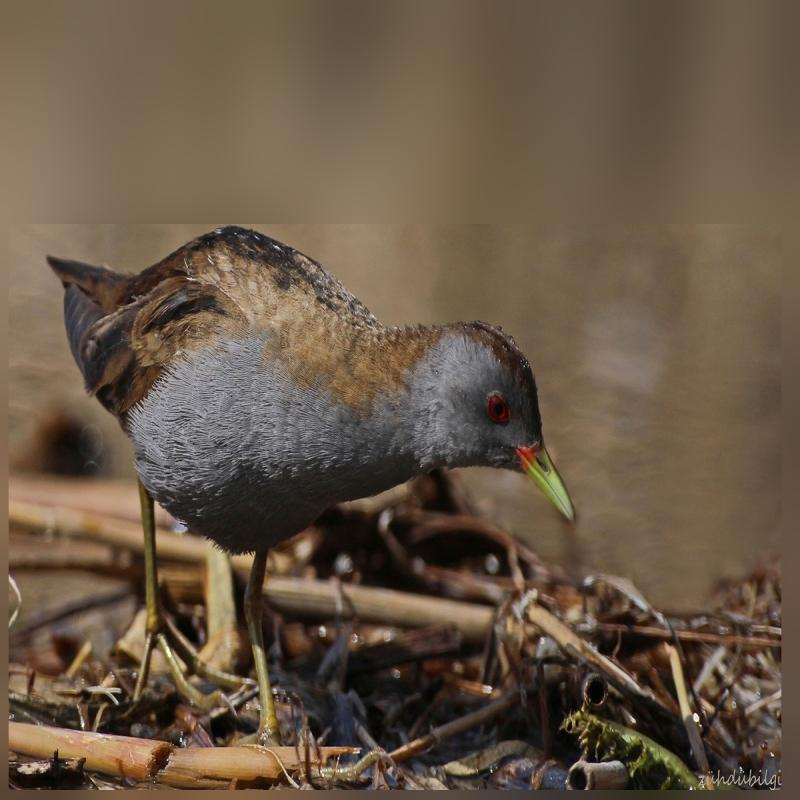little crake: (44, 226, 585, 596)
